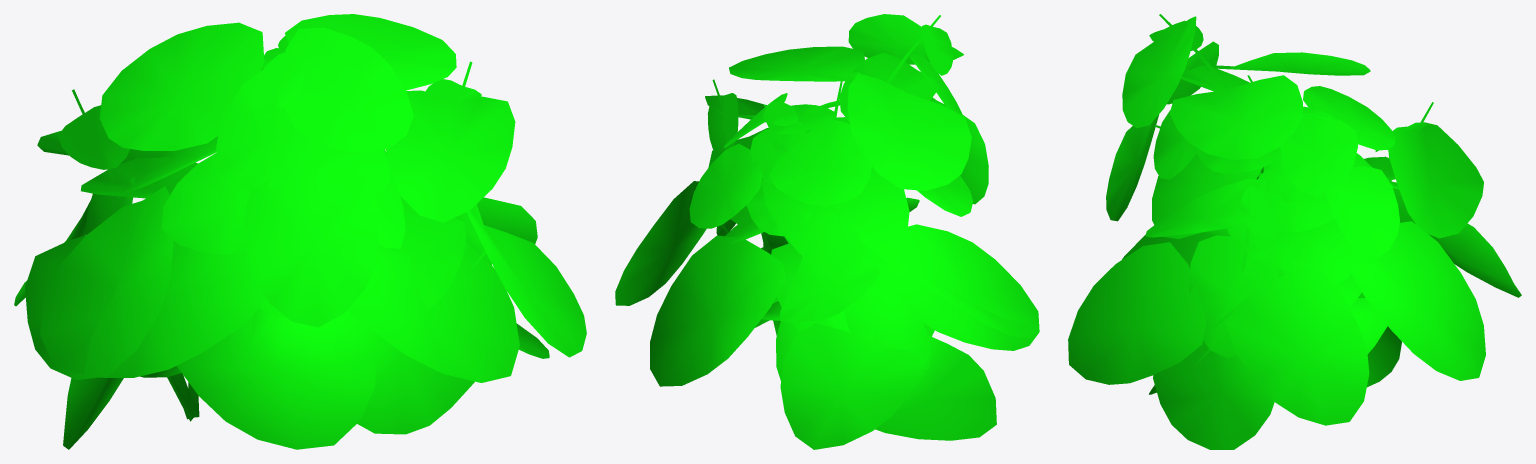
File: SmallPalm_Big_2018.FBX
3 renders of one model, left to right at view 1: azimuth 30°, elevation 25°; view 2: azimuth 150°, elevation 25°; view 3: azimuth 270°, elevation 25°, orthographic. The views are drawn at different scales.
Parts seen in each view (by area): view 1: SmallPalmBig_LOD0; view 2: SmallPalmBig_LOD0; view 3: SmallPalmBig_LOD0.
Boxes of the visible parts, x1,y1,x2,y2 form: SmallPalmBig_LOD0: (14, 14, 586, 449); SmallPalmBig_LOD0: (615, 14, 1039, 449); SmallPalmBig_LOD0: (1068, 14, 1521, 449).
Size of what is drawn, in the model's own units: 57.2 by 48.48 by 55.08.
